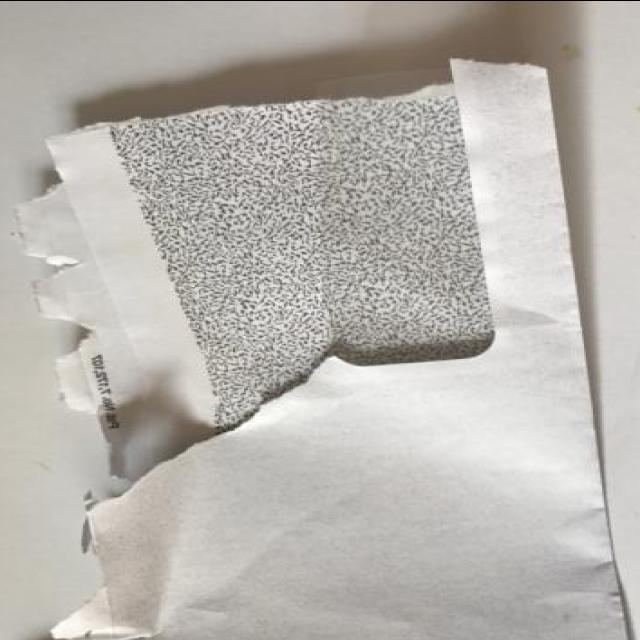kertas: (14, 56, 637, 640)
